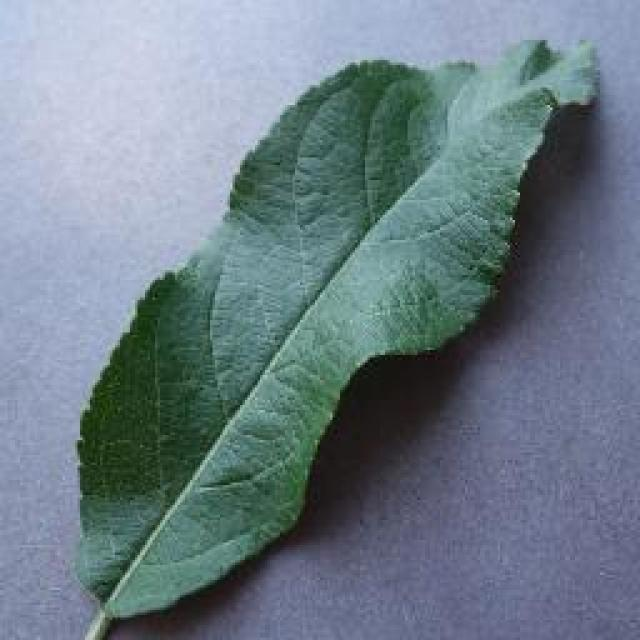apple scab disease: (62, 32, 602, 638)
